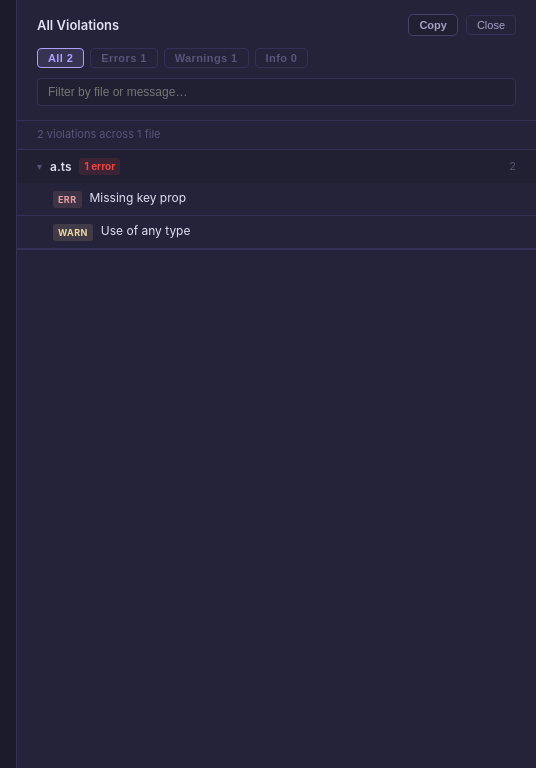
Scenario: ViolationsPanel › filters by search text
Type "key" into the field with placeholder "Filter by file or message…". click: [276, 92]
box: [37,78,516,106]
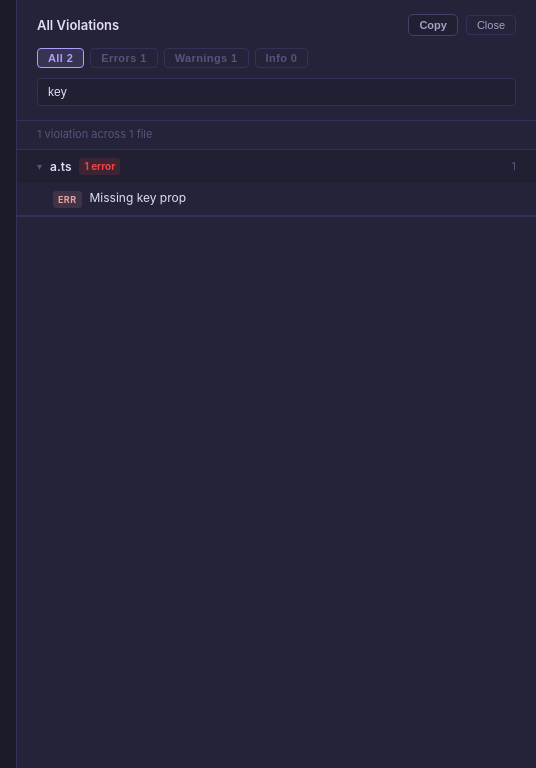
Expected: the text "Missing key prop" is shown, [90,190,186,205]
Expected: the text "Use of any type" is gone
